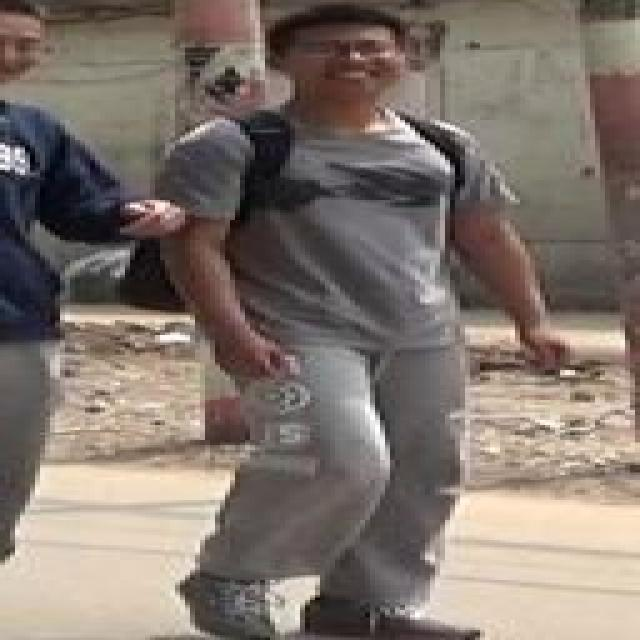adult: (170, 6, 560, 636), (0, 1, 171, 564)
